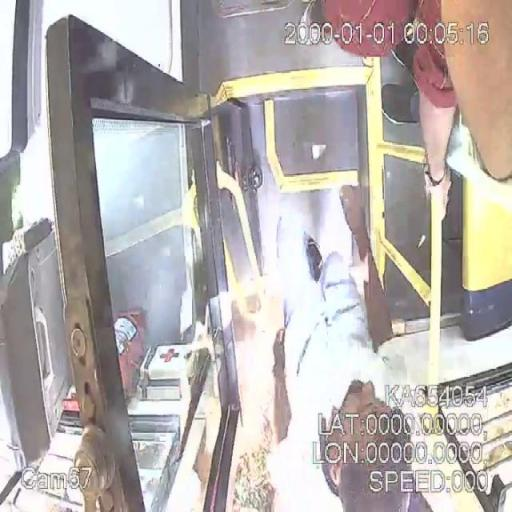persona: (247, 181, 434, 511)
